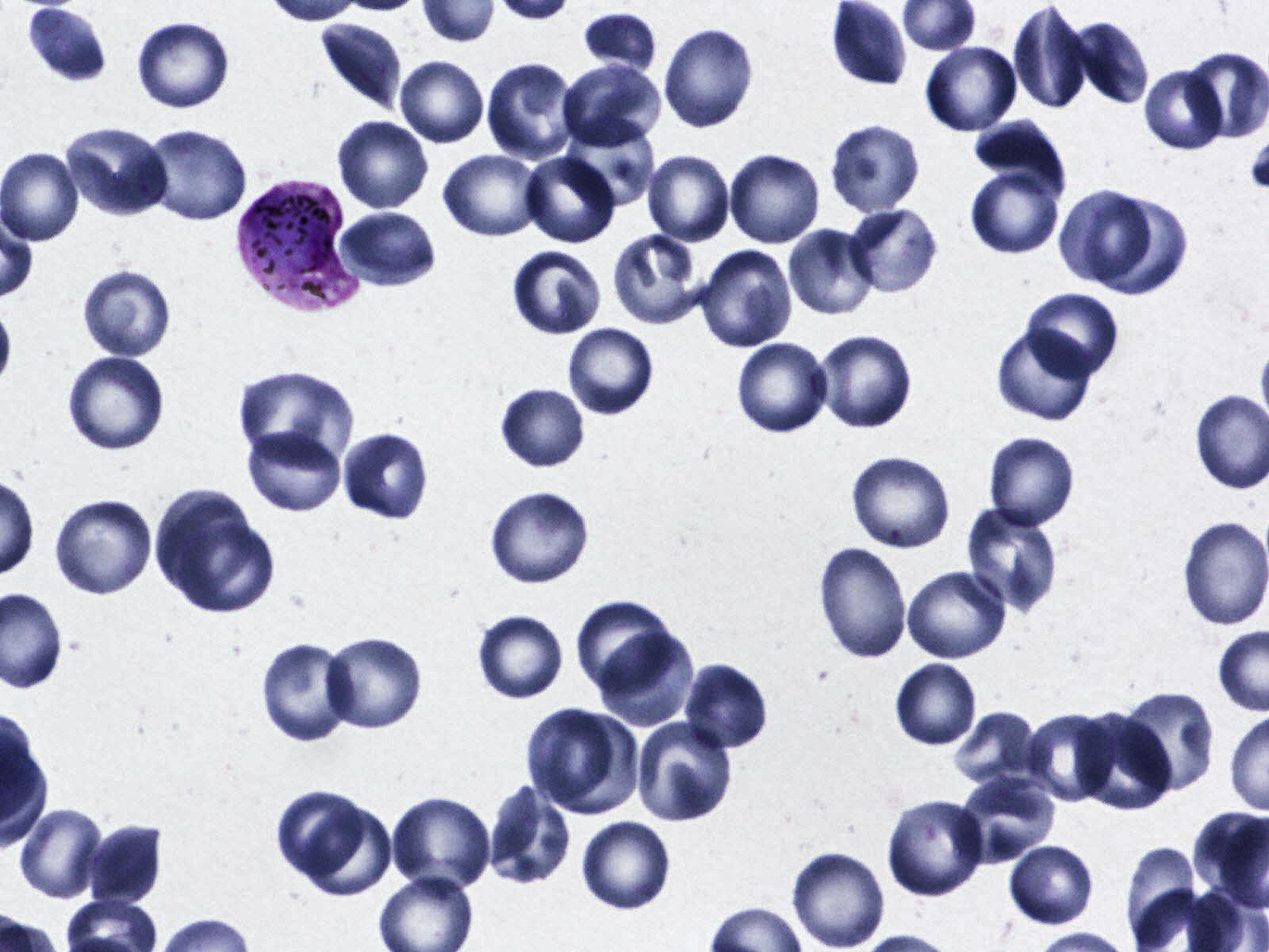Infected: (242, 177, 358, 309)
Uninfected: (240, 365, 355, 472), (159, 486, 255, 601), (388, 793, 495, 894), (575, 599, 681, 700), (884, 795, 986, 897), (1086, 196, 1188, 297), (64, 352, 167, 452), (53, 496, 156, 595), (262, 639, 360, 743), (602, 626, 698, 732), (1072, 713, 1179, 808), (662, 25, 755, 131), (791, 850, 888, 951), (909, 570, 1012, 665), (143, 129, 247, 223), (322, 635, 424, 730), (492, 486, 587, 588), (816, 333, 917, 428), (551, 713, 641, 819), (968, 508, 1060, 611), (637, 720, 733, 818), (920, 41, 1022, 133), (1182, 519, 1268, 628), (136, 14, 232, 110), (1057, 186, 1153, 282), (827, 122, 924, 217), (987, 431, 1077, 533), (561, 60, 666, 147), (735, 338, 830, 434), (1000, 326, 1093, 424), (820, 551, 905, 658), (782, 229, 879, 322), (727, 151, 820, 248), (960, 776, 1060, 866), (63, 128, 167, 214), (441, 154, 546, 239), (489, 65, 581, 162), (579, 819, 674, 912), (612, 234, 707, 327), (178, 524, 275, 614), (246, 426, 347, 512), (952, 711, 1053, 796), (301, 808, 396, 898), (853, 458, 949, 547), (970, 116, 1069, 202), (1013, 6, 1093, 112), (14, 806, 106, 898), (79, 268, 172, 359), (527, 705, 612, 804), (335, 119, 428, 209), (1026, 293, 1124, 378), (565, 323, 655, 415), (1127, 693, 1214, 788), (342, 431, 434, 520), (846, 206, 940, 293), (968, 169, 1063, 255), (485, 786, 569, 883), (677, 663, 768, 752), (568, 113, 654, 207), (705, 251, 790, 346), (333, 212, 435, 291), (1030, 713, 1117, 804), (525, 155, 615, 242), (278, 791, 364, 881), (892, 662, 982, 747), (398, 54, 485, 141), (1004, 843, 1097, 923), (647, 155, 730, 244), (514, 251, 601, 335), (1139, 64, 1227, 147), (316, 22, 401, 105), (499, 386, 586, 467), (1, 152, 79, 241), (480, 615, 561, 700), (831, 0, 907, 87), (87, 819, 161, 908), (25, 9, 105, 81), (1074, 24, 1146, 104), (584, 11, 655, 79)
